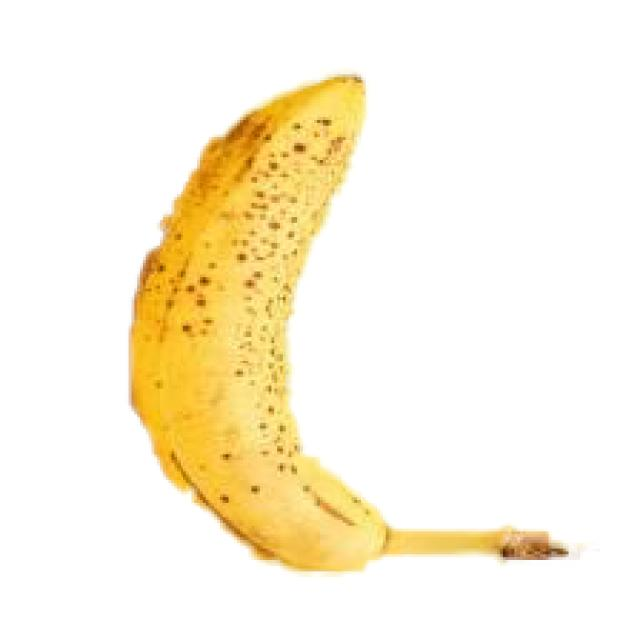fresh-banana: (126, 71, 574, 572)
